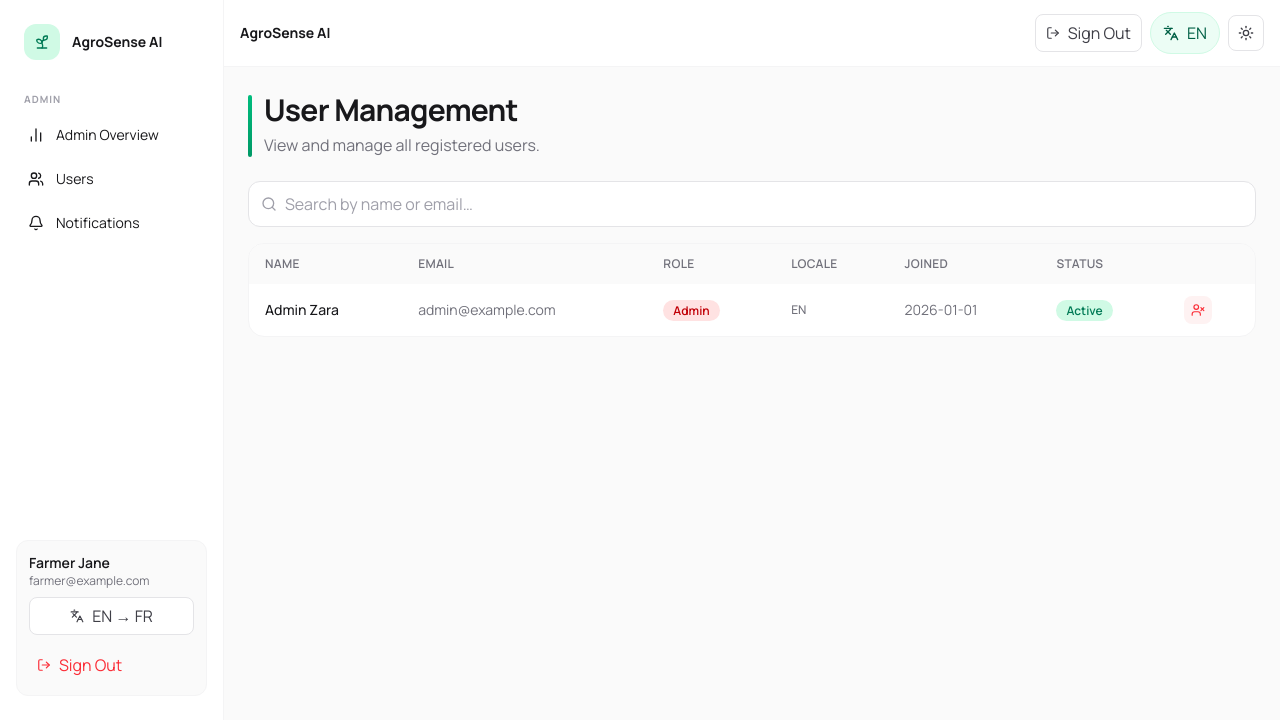
Scenario: Admin dashboard pages › filters and toggles users in admin users page
The width and height of the screenshot is (1280, 720).
Expected: the text "Admin Zara" is shown, [249,284,402,336]
Step 1. Click the button titled "Deactivate user" → (1198, 310), box [1184,296,1212,324]
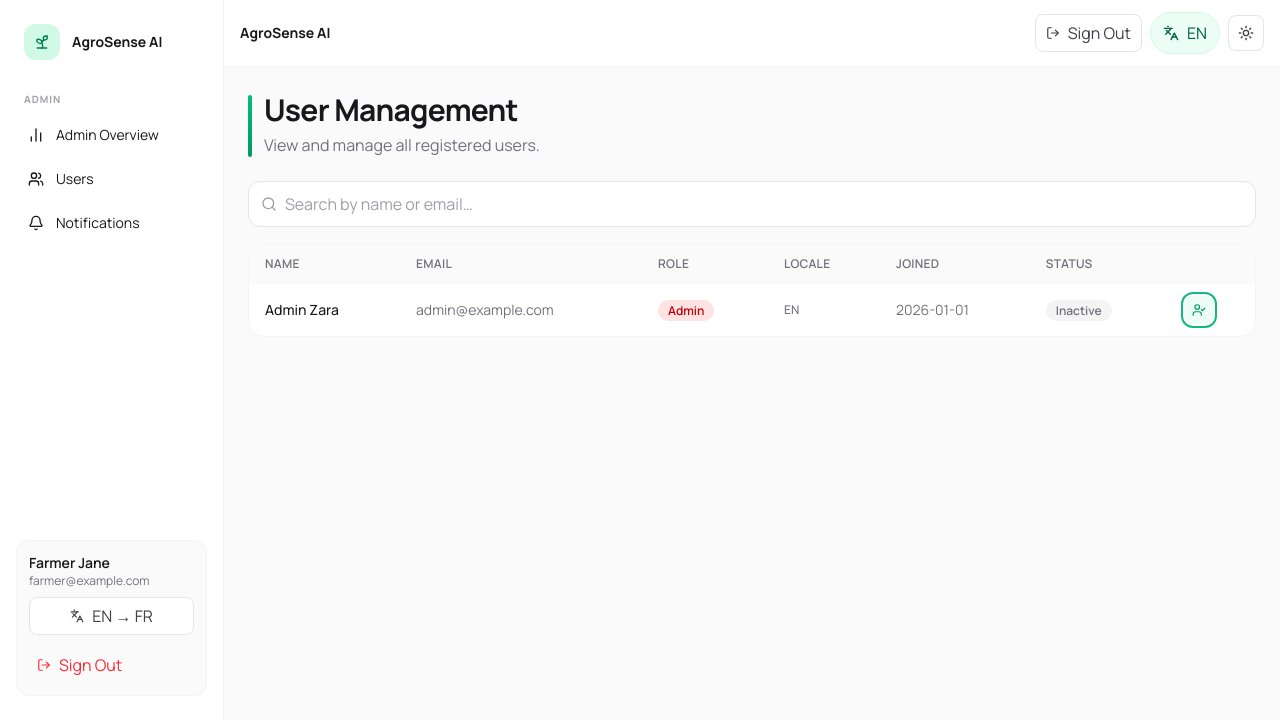
Now the text "Inactive" is shown, box [1046,300,1112,320]
